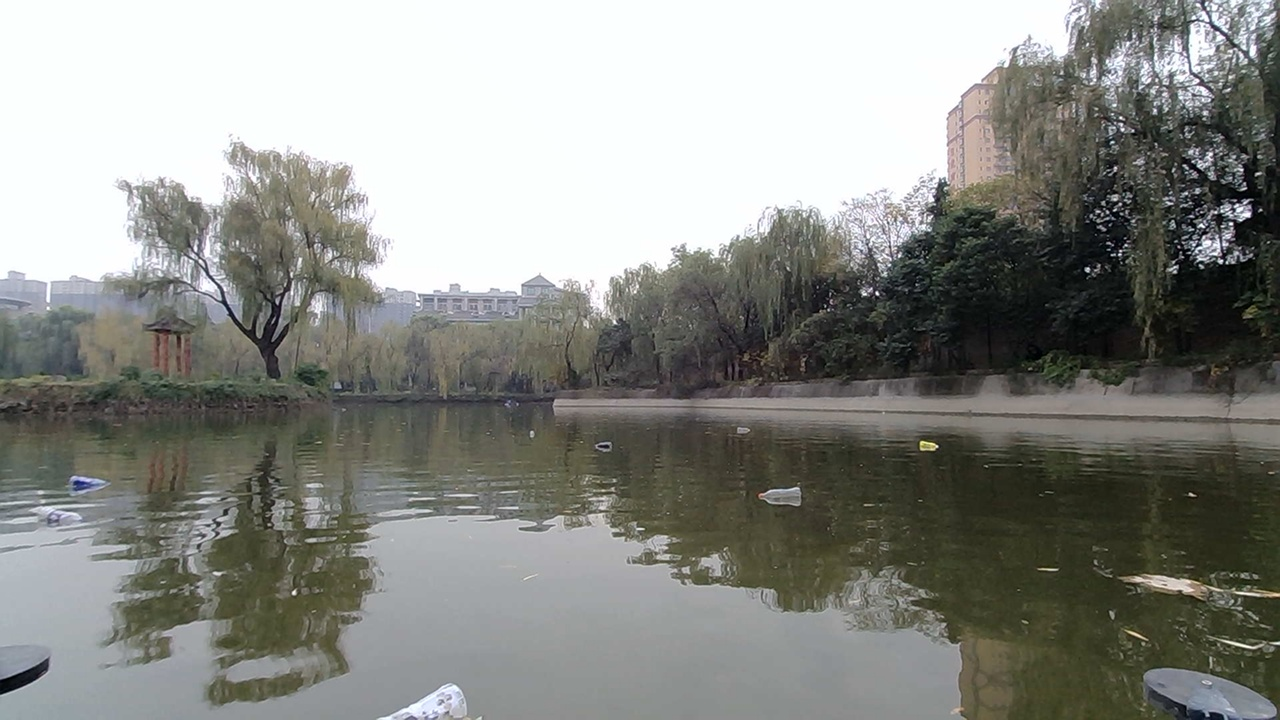bottle: (394, 676, 482, 720), (757, 467, 814, 518), (40, 499, 87, 541), (903, 415, 942, 458), (527, 420, 562, 451), (741, 417, 779, 442), (594, 425, 618, 460), (69, 471, 95, 500)
